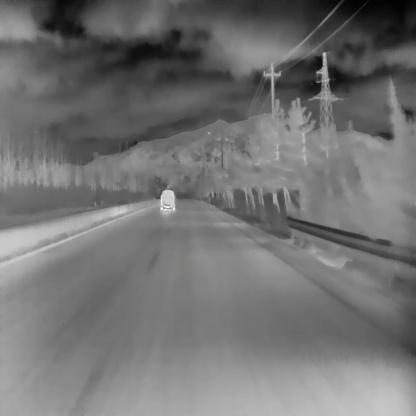car: (160, 188, 175, 210)
